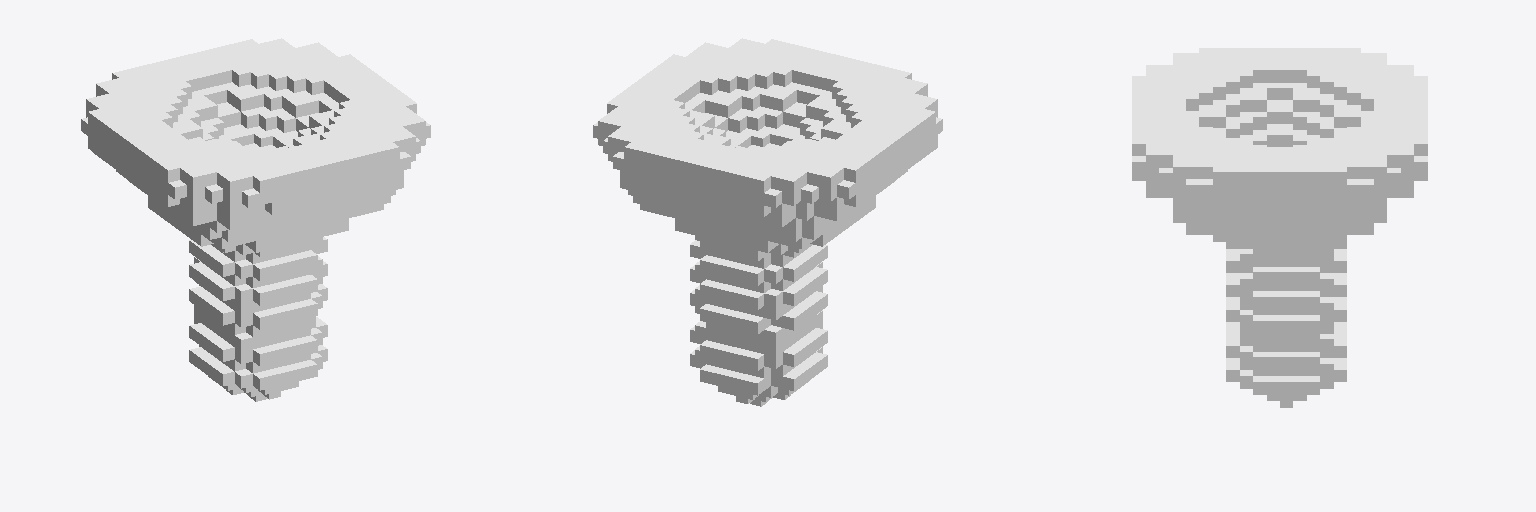
File: screw_3_1.0.obj
3 views of the same model, side by side, from view 1: azimuth 30°, elevation 25°; view 2: azimuth 150°, elevation 25°; view 3: azimuth 270°, elevation 25° (orthographic).
Visible parts, largest first — view 1: object 1; view 2: object 1; view 3: object 1.
Part boxes in pixels (bbox=[...]): object 1: bbox=[81, 38, 430, 401]; object 1: bbox=[593, 38, 942, 406]; object 1: bbox=[1132, 48, 1427, 407].
Size of the model in its own units: 2.2 by 2.4 by 2.2.